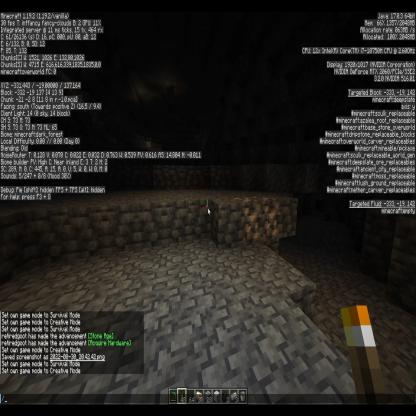iron ore: (252, 193, 281, 247), (234, 195, 258, 251)
